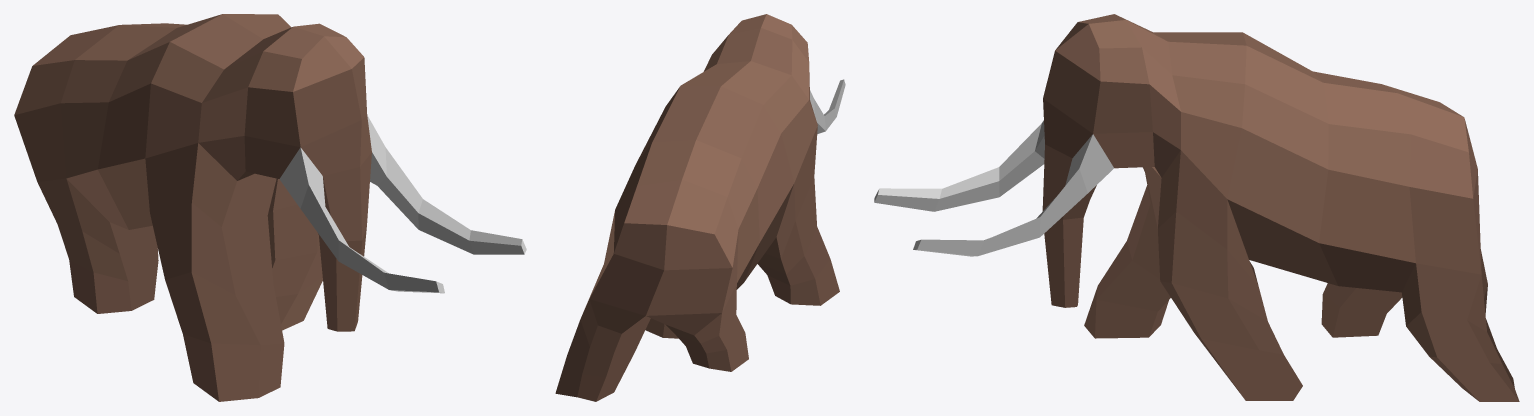
The model's file is Mammoo.fbx.
The picture shows the model from 3 angles, left to right: view 1: azimuth 30°, elevation 25°; view 2: azimuth 150°, elevation 25°; view 3: azimuth 270°, elevation 25°; orthographic projection. The views are drawn at different scales.
Parts seen in each view (by area): view 1: Cube; view 2: Cube; view 3: Cube.
Part boxes in pixels (x1=…): Cube: x1=14, y1=14, x2=526, y2=401; Cube: x1=555, y1=14, x2=845, y2=401; Cube: x1=874, y1=14, x2=1519, y2=401.
Size of the model in its own units: 591 by 824 by 1376.
